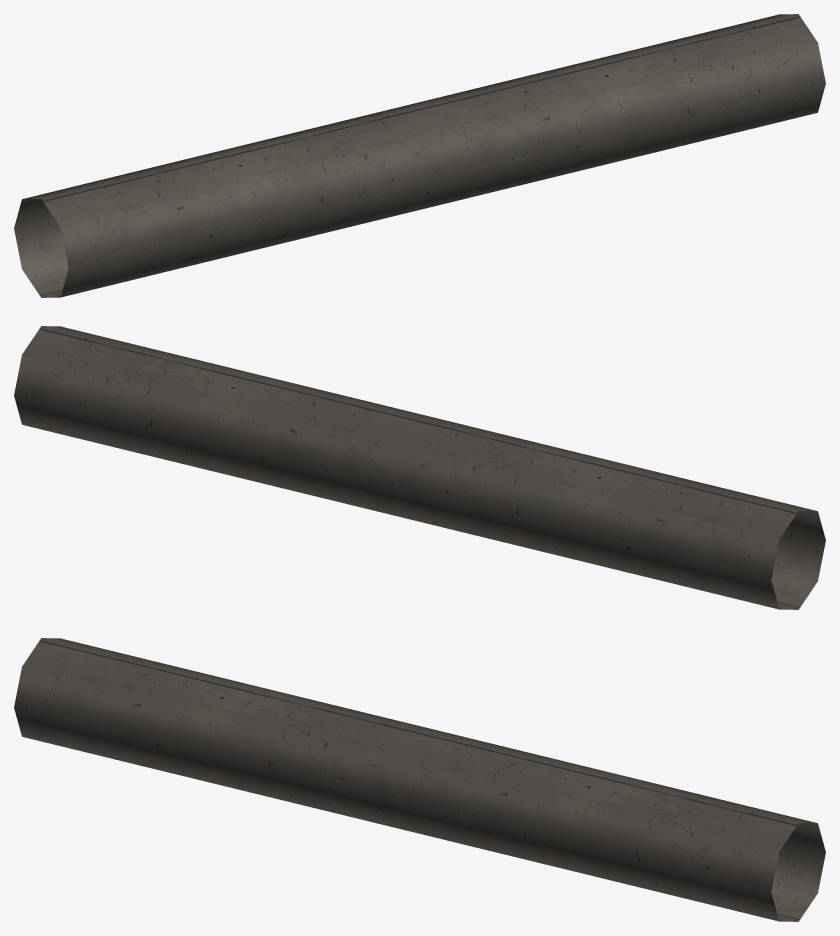
The model's file is com_pipe_8x128_white_clean_lod1.glb.
The picture shows the model from 3 angles, top to bottom: view 1: azimuth 30°, elevation 25°; view 2: azimuth 150°, elevation 25°; view 3: azimuth 330°, elevation 25°; orthographic projection.
Parts seen in each view (by area): view 1: surf0; view 2: surf0; view 3: surf0.
Part boxes in pixels (x1=…): surf0: x1=14, y1=14, x2=825, y2=297; surf0: x1=14, y1=326, x2=825, y2=609; surf0: x1=14, y1=638, x2=825, y2=921.
Size of the model in its own units: 128 by 16 by 16.
